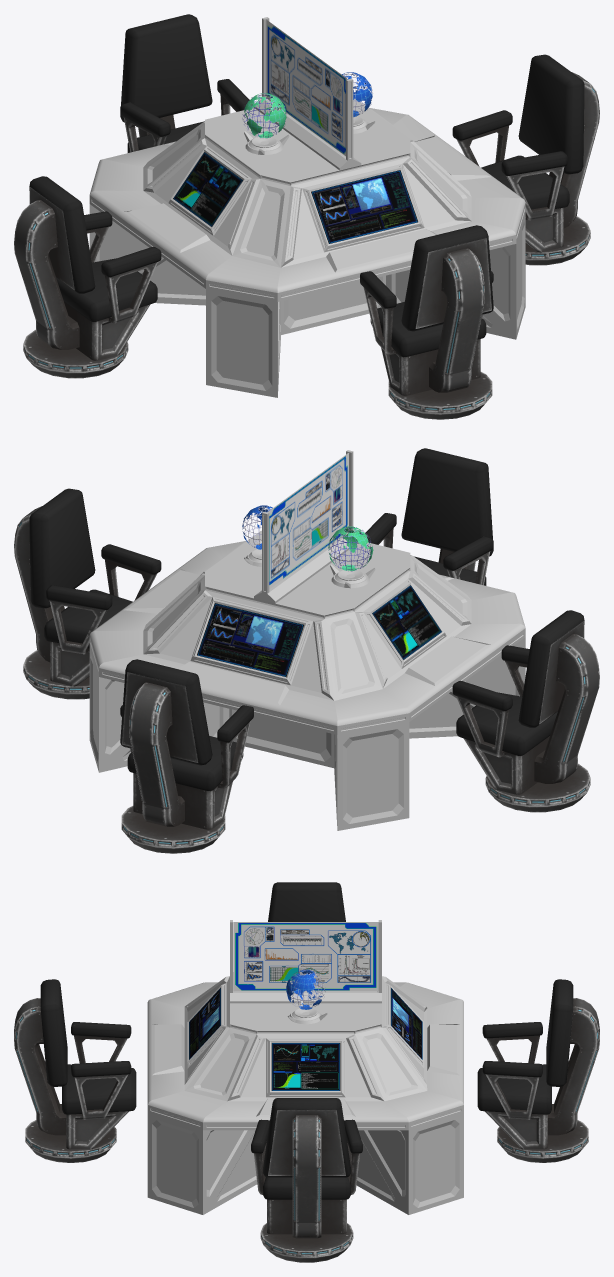
The model's file is Sci-fi_Communications_Center_fbx.FBX.
3 renders of one model, top to bottom at view 1: azimuth 30°, elevation 25°; view 2: azimuth 150°, elevation 25°; view 3: azimuth 270°, elevation 25°, orthographic. The views are drawn at different scales.
Parts seen in each view (by area): view 1: Communications_Center, Chair_3, Chair_2, Chair_4, Chair_1, Holographic_screen, Screen_3, Screen_2, Holographic sphere_1, Holographic sphere_2; view 2: Communications_Center, Chair_3, Chair_1, Chair_4, Chair_2, Holographic_screen, Screen_4, Screen_2, Holographic sphere_1, Holographic sphere_2; view 3: Communications_Center, Chair_4, Chair_1, Chair_2, Holographic_screen, Screen_1, Chair_3, Screen_3, Screen_4, Holographic sphere_2.
Boxes of the visible parts, x1,y1,x2,y2 form: Communications_Center: [89, 17, 525, 397]; Chair_3: [14, 176, 161, 378]; Chair_2: [360, 225, 493, 419]; Chair_4: [452, 54, 599, 265]; Chair_1: [120, 14, 252, 152]; Holographic_screen: [266, 19, 347, 156]; Screen_3: [311, 170, 417, 243]; Screen_2: [173, 152, 242, 226]; Holographic sphere_1: [242, 93, 286, 138]; Holographic sphere_2: [342, 72, 372, 117]; Communications_Center: [89, 450, 525, 830]; Chair_3: [452, 610, 599, 812]; Chair_1: [120, 659, 253, 853]; Chair_4: [14, 488, 161, 699]; Chair_2: [365, 448, 493, 585]; Holographic_screen: [267, 453, 348, 589]; Screen_4: [197, 603, 303, 676]; Screen_2: [372, 585, 441, 659]; Holographic sphere_1: [328, 526, 373, 571]; Holographic sphere_2: [242, 505, 272, 549]; Communications_Center: [147, 920, 463, 1214]; Chair_4: [251, 1098, 362, 1262]; Chair_1: [477, 979, 599, 1162]; Chair_2: [14, 979, 136, 1162]; Holographic_screen: [233, 922, 378, 991]; Screen_1: [271, 1043, 340, 1090]; Chair_3: [268, 882, 345, 921]; Screen_3: [189, 987, 220, 1059]; Screen_4: [391, 988, 422, 1059]; Holographic sphere_2: [286, 969, 325, 1009].
Size of the model in its own units: 4.57 by 1.94 by 4.57.
